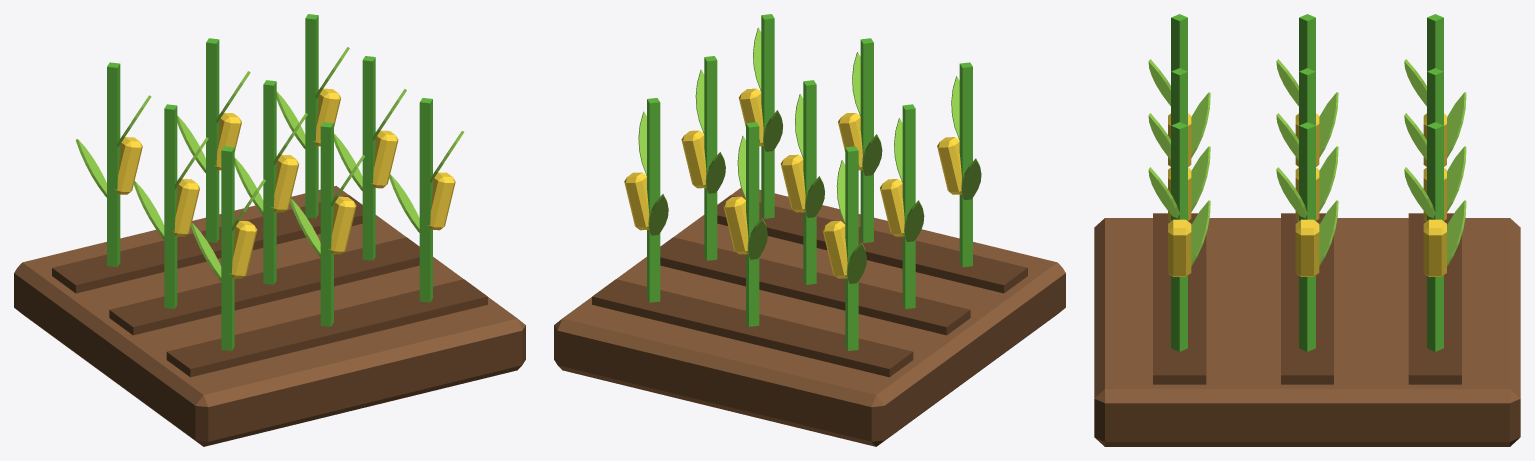
File: CornField.fbx
3 renders of one model, left to right at view 1: azimuth 30°, elevation 25°; view 2: azimuth 150°, elevation 25°; view 3: azimuth 270°, elevation 25°, orthographic. The views are drawn at different scales.
Visible parts, largest first — view 1: CornField; view 2: CornField; view 3: CornField.
Boxes of the visible parts, x1,y1,x2,y2 form: CornField: (14,14,525,446); CornField: (554,14,1065,446); CornField: (1094,14,1520,446).
Size of the model in its own units: 4 by 3 by 4.
1 material, 1 textured.
